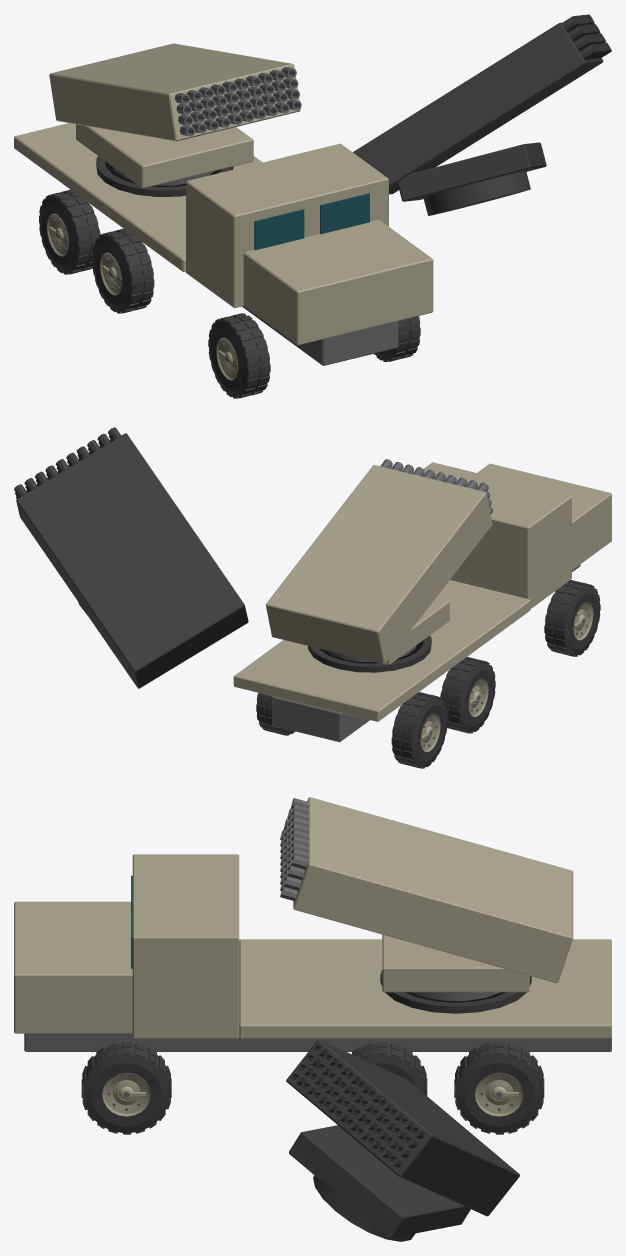
Rendered from mlrs__bm_21_grad.glb.
The picture shows the model from 3 angles, top to bottom: view 1: azimuth 30°, elevation 25°; view 2: azimuth 150°, elevation 25°; view 3: azimuth 270°, elevation 25°; orthographic projection. The views are drawn at different scales.
Parts seen in each view (by area): view 1: Hull_Mesh, Wreck, Gun_Mesh, Turret_Mesh, Wheel_L2_Mesh, Wheel_L1_Mesh, Wheel_L0_Mesh, Wheel_R2_Mesh; view 2: Wreck, Hull_Mesh, Gun_Mesh, Wheel_L2_Mesh, Wheel_L0_Mesh, Wheel_L1_Mesh, Turret_Mesh, Wheel_R0_Mesh; view 3: Hull_Mesh, Gun_Mesh, Wreck, Wheel_R2_Mesh, Wheel_R0_Mesh, Turret_Mesh, Wheel_R1_Mesh.
Part boxes in pixels (bbox=[...]): Hull_Mesh: bbox=[14, 123, 433, 365]; Wreck: bbox=[88, 14, 611, 398]; Gun_Mesh: bbox=[49, 43, 301, 141]; Turret_Mesh: bbox=[76, 124, 253, 188]; Wheel_L2_Mesh: bbox=[208, 313, 270, 398]; Wheel_L1_Mesh: bbox=[92, 228, 154, 313]; Wheel_L0_Mesh: bbox=[39, 189, 100, 274]; Wheel_R2_Mesh: bbox=[374, 316, 420, 361]; Wreck: bbox=[14, 427, 587, 767]; Hull_Mesh: bbox=[233, 462, 611, 742]; Gun_Mesh: bbox=[265, 459, 493, 664]; Wheel_L2_Mesh: bbox=[544, 580, 600, 656]; Wheel_L0_Mesh: bbox=[391, 692, 447, 768]; Wheel_L1_Mesh: bbox=[440, 657, 495, 733]; Turret_Mesh: bbox=[326, 597, 449, 664]; Wheel_R0_Mesh: bbox=[256, 693, 295, 735]; Hull_Mesh: bbox=[14, 854, 611, 1051]; Gun_Mesh: bbox=[280, 797, 573, 983]; Wreck: bbox=[286, 970, 531, 1241]; Wheel_R2_Mesh: bbox=[81, 1041, 171, 1134]; Wheel_R0_Mesh: bbox=[454, 1041, 544, 1134]; Turret_Mesh: bbox=[382, 934, 529, 1000]; Wheel_R1_Mesh: bbox=[352, 1041, 427, 1095].
Size of what is drawn, in the model's own units: 7.42 by 3.33 by 6.9.
